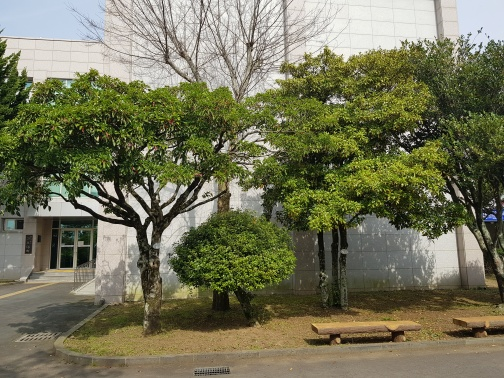College of Nursing: (16, 15, 464, 305)
